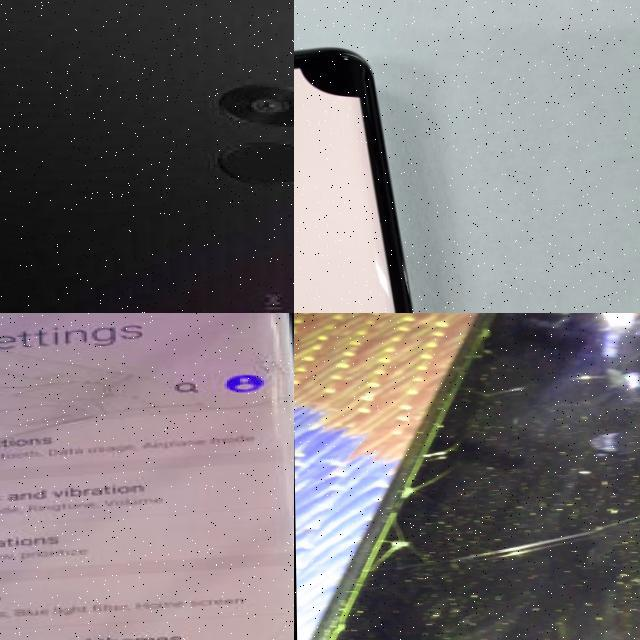dead pixel: (294, 36, 423, 129)
screen crack: (295, 313, 640, 640), (0, 353, 294, 506)
